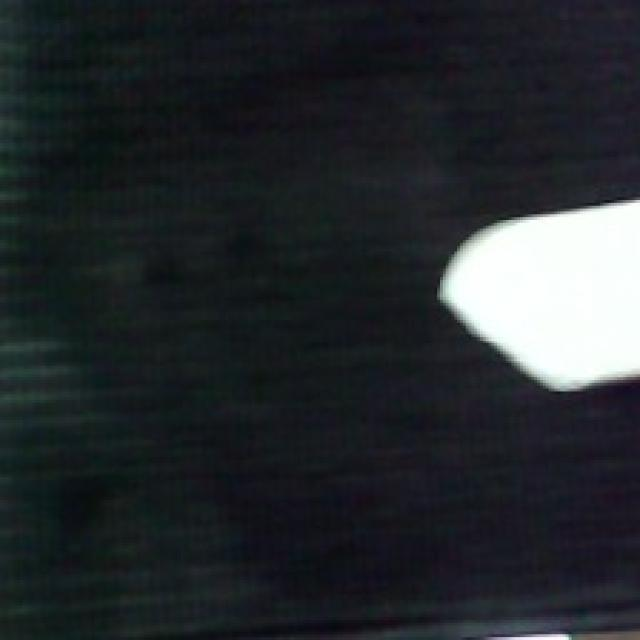defected: (437, 195, 640, 398)
